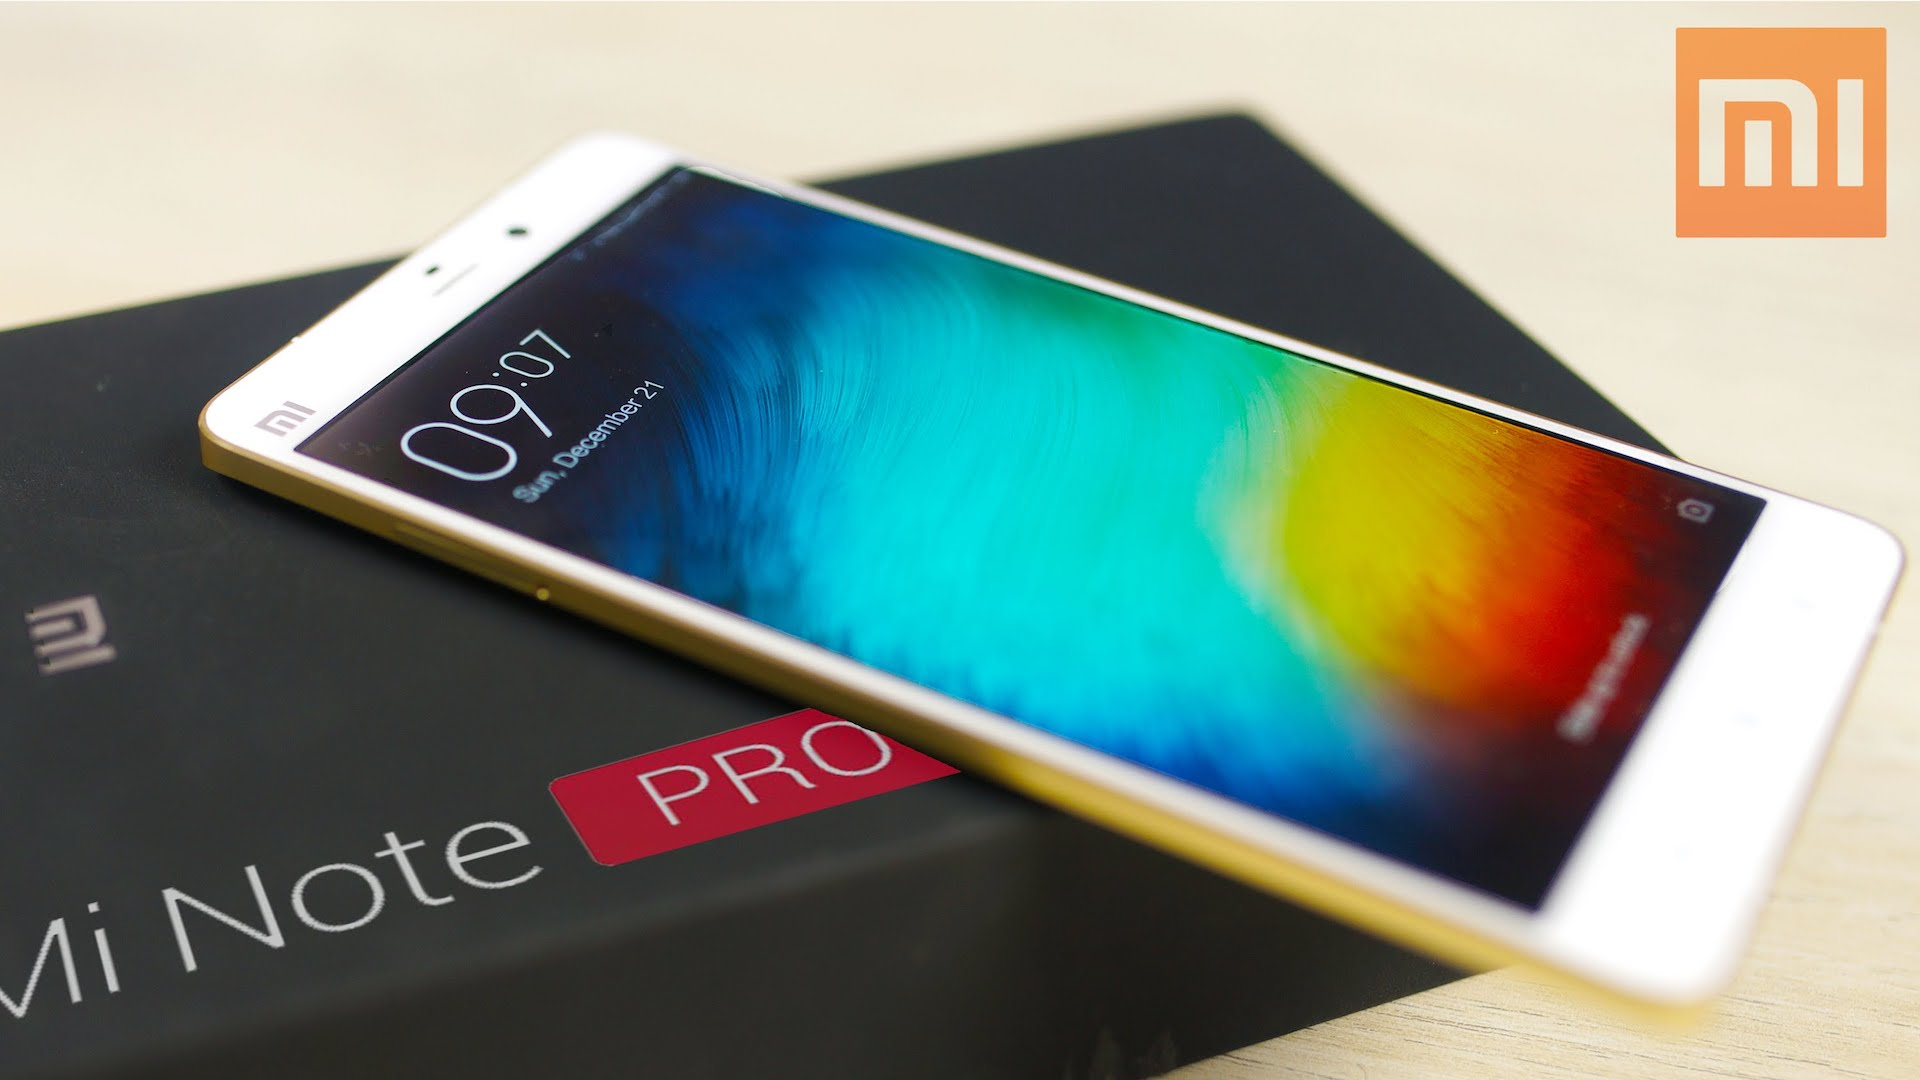smartphone: (195, 132, 1909, 1044)
